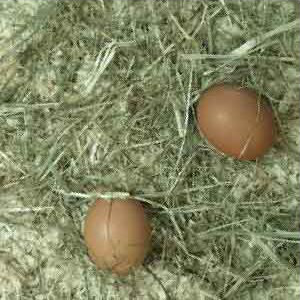egg: (196, 84, 276, 161), (83, 191, 151, 275)
